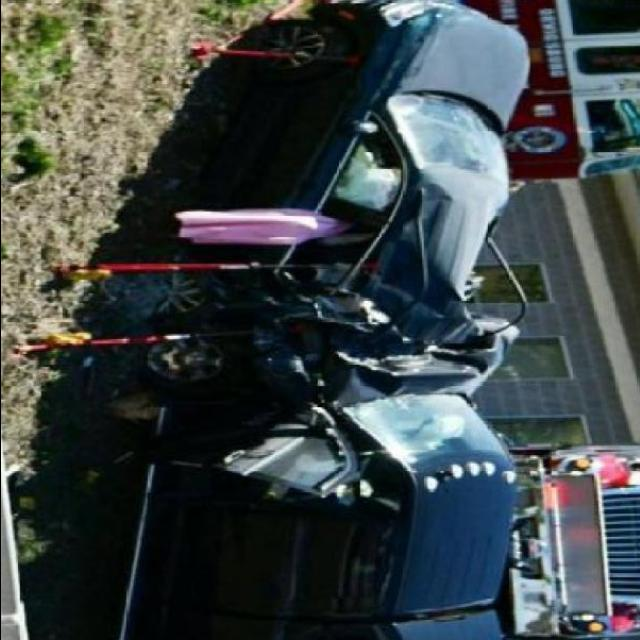accident: (89, 8, 547, 640)
